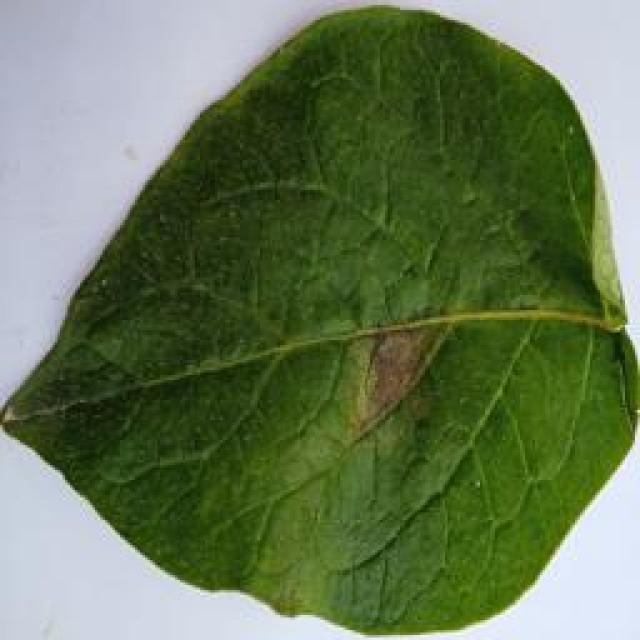Potato_Late_Blight: (5, 5, 625, 632)
